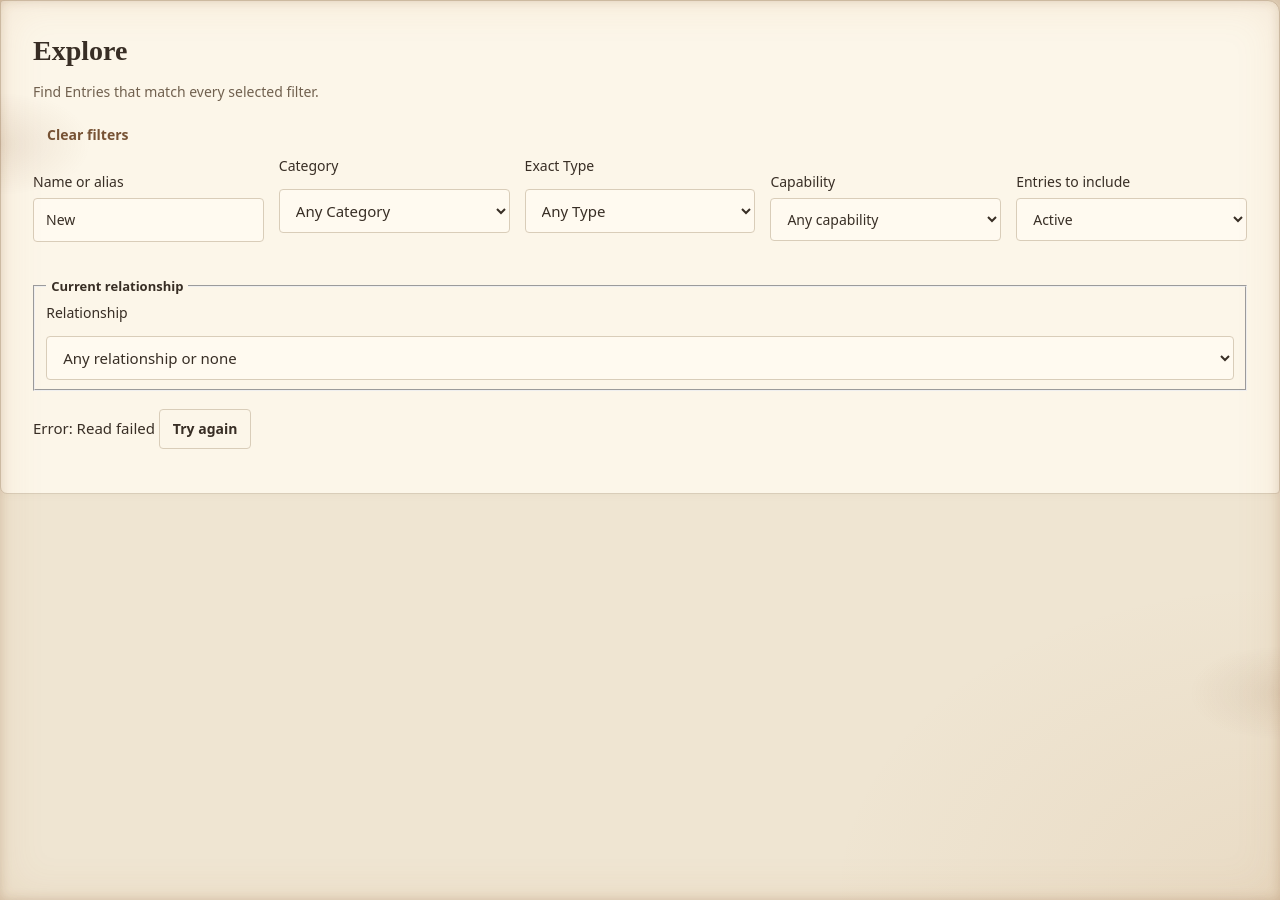
Test: ignores stale responses, retries failures, and refreshes current filters after shared edits
expect the message shows "Read failed": met, box [33,418,155,438]
expect the button "Captain" is not shown: met
Click the button "Try again".
click(205, 429)  # box [159,409,252,449]
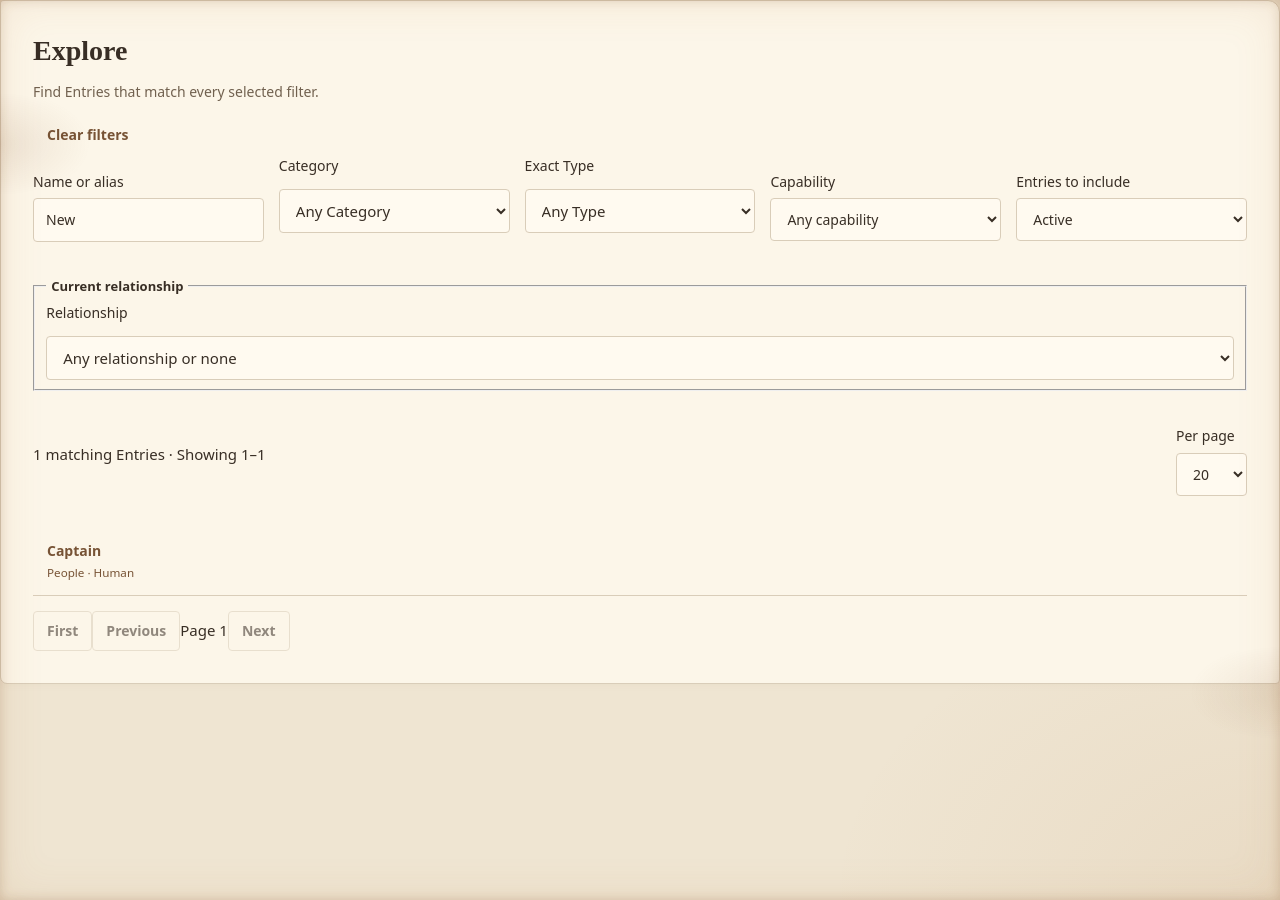
expect the button "Captain People · Human" is shown: met, box [33,531,148,592]
